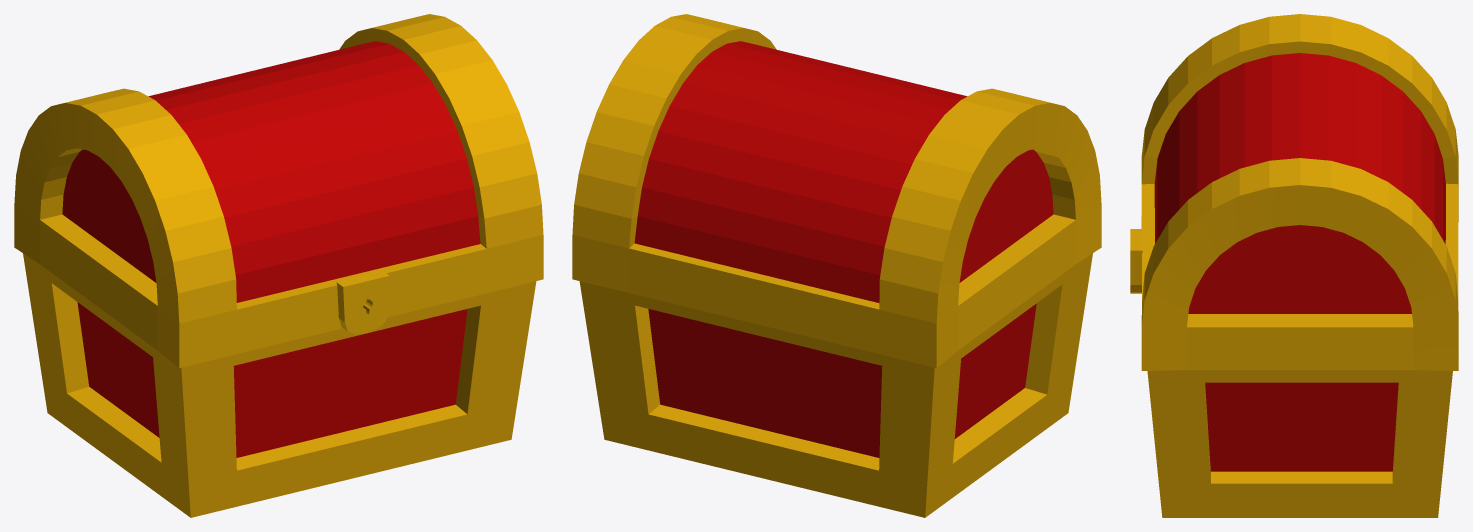
File: collectable.glb
3 renders of one model, left to right at view 1: azimuth 30°, elevation 25°; view 2: azimuth 150°, elevation 25°; view 3: azimuth 270°, elevation 25°, orthographic. The views are drawn at different scales.
Parts seen in each view (by area): view 1: Cube; view 2: Cube; view 3: Cube.
Boxes of the visible parts, x1,y1,x2,y2 form: Cube: [14, 14, 543, 517]; Cube: [572, 14, 1101, 517]; Cube: [1130, 14, 1458, 517].
Size of the model in its own units: 1.9 by 1.77 by 1.54.
